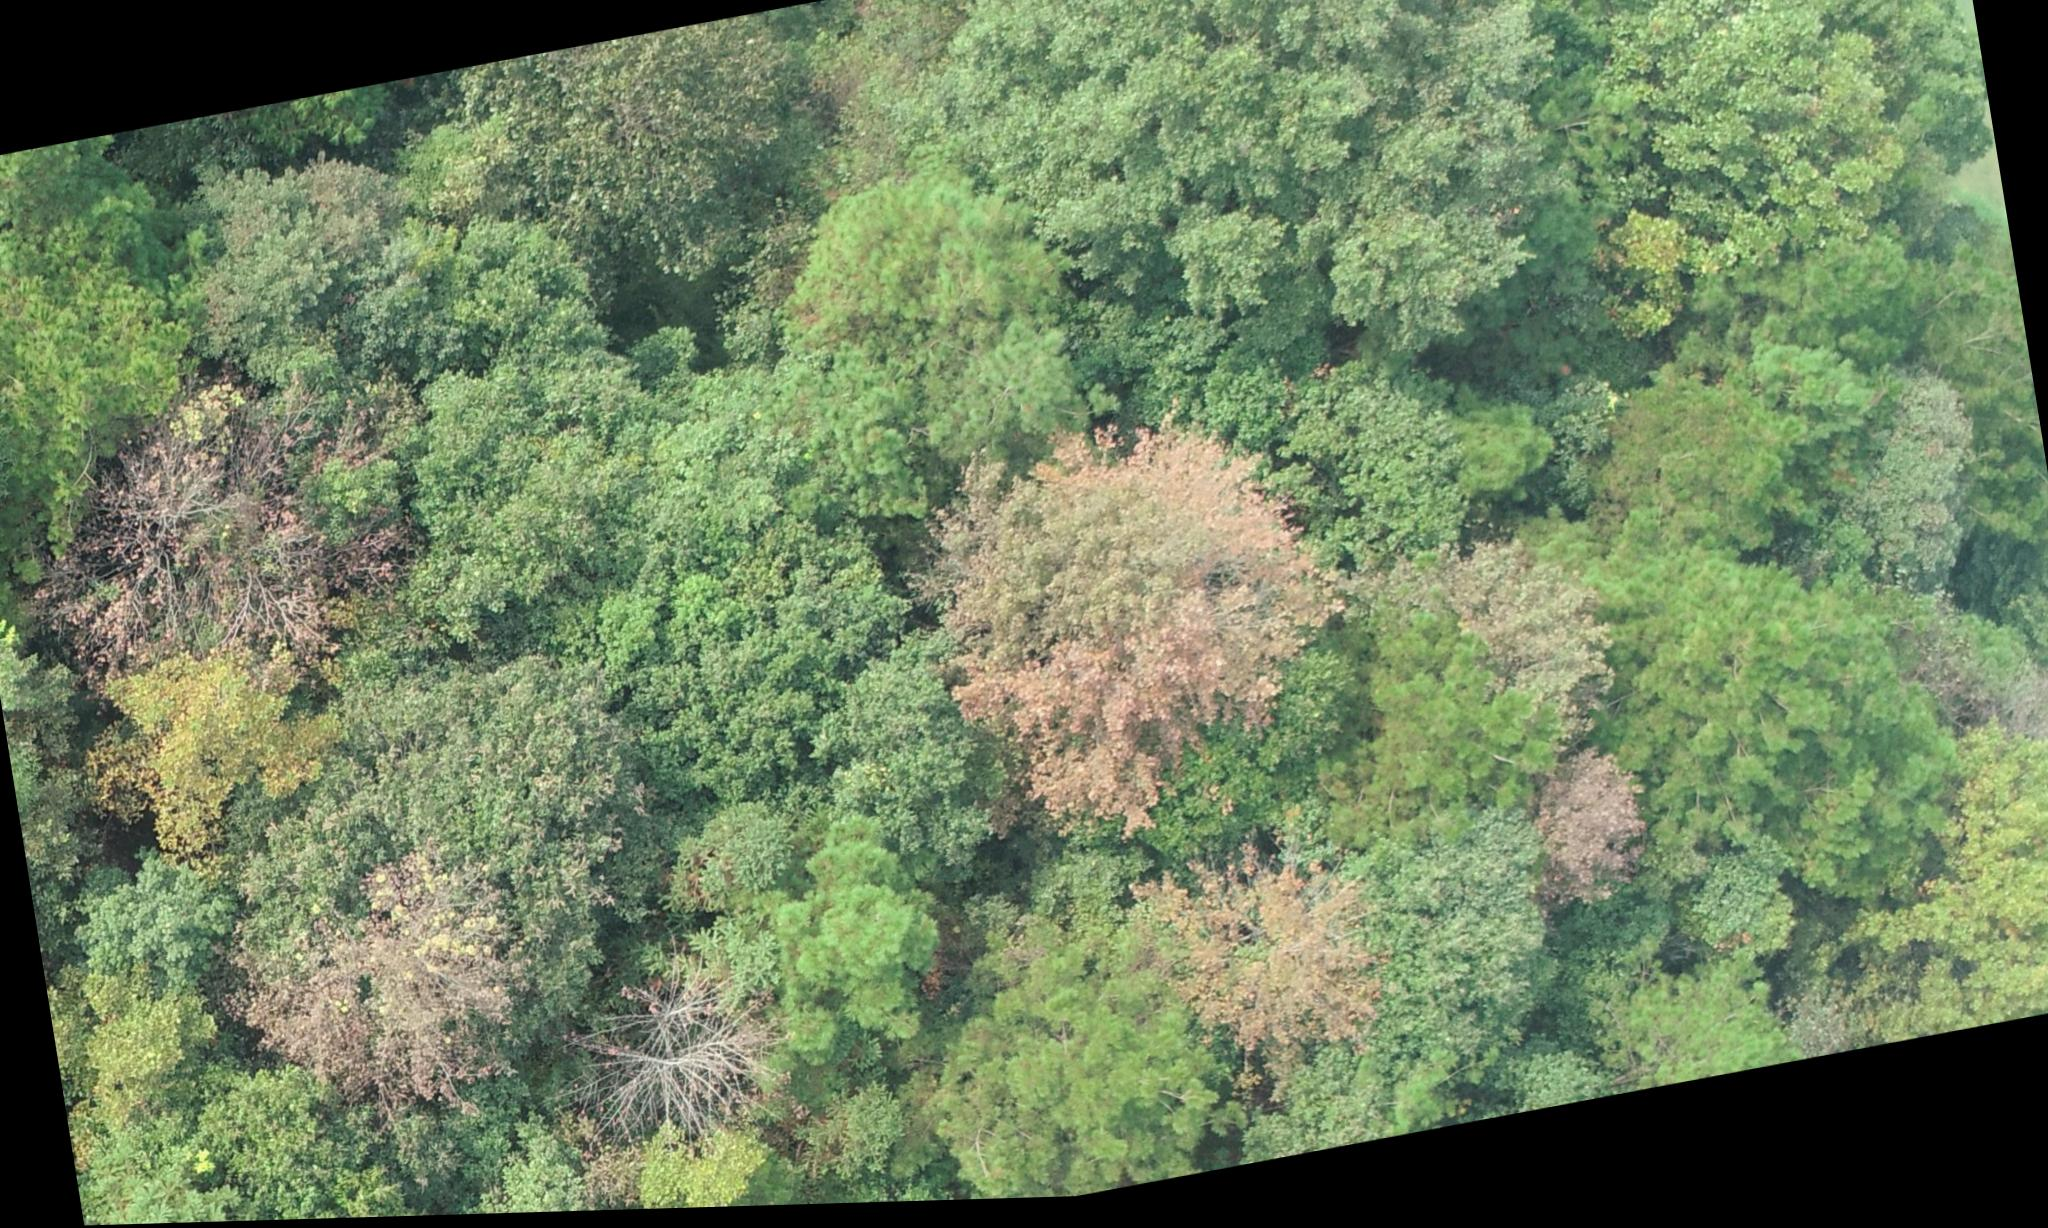dead: (573, 950, 779, 1174)
heavy: (906, 403, 1335, 867)
